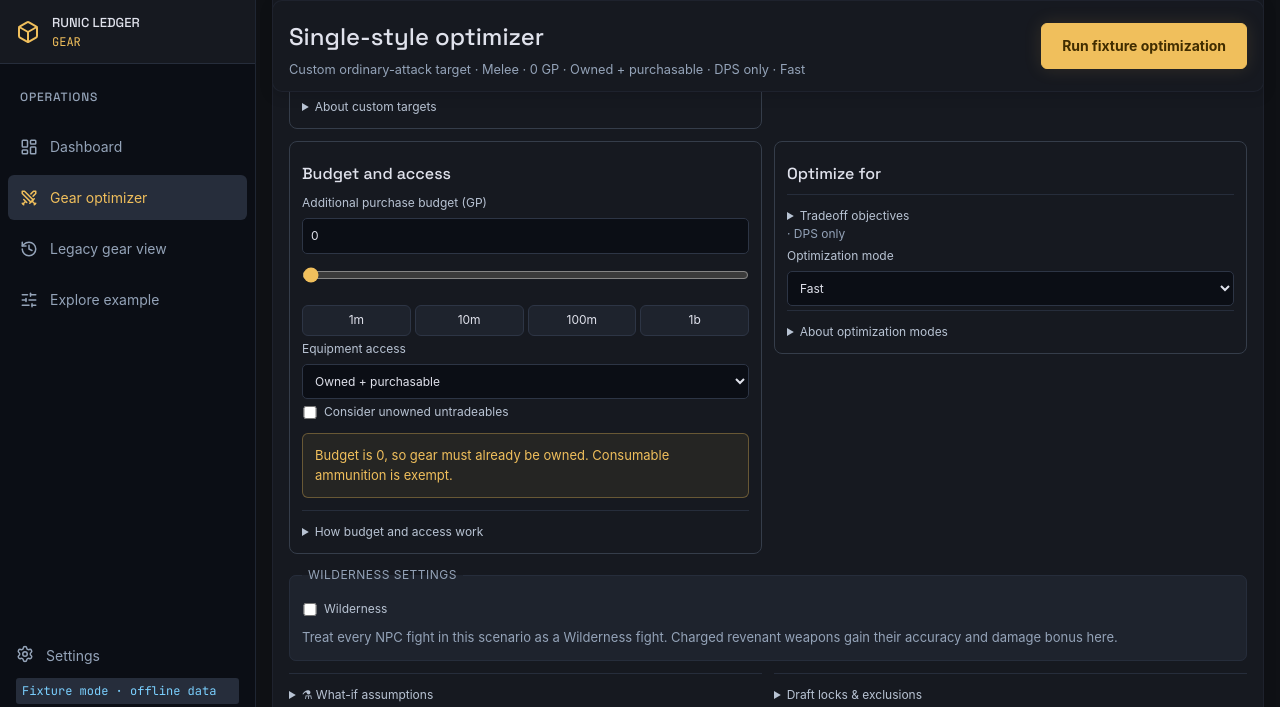
Test: preserves the toggle while owned-only access temporarily disables it
The image size is (1280, 707).
(page scrolled)
Click the checkbox labelled "Consider unowned untradeables" at (310, 412), box [302,406,318,419]
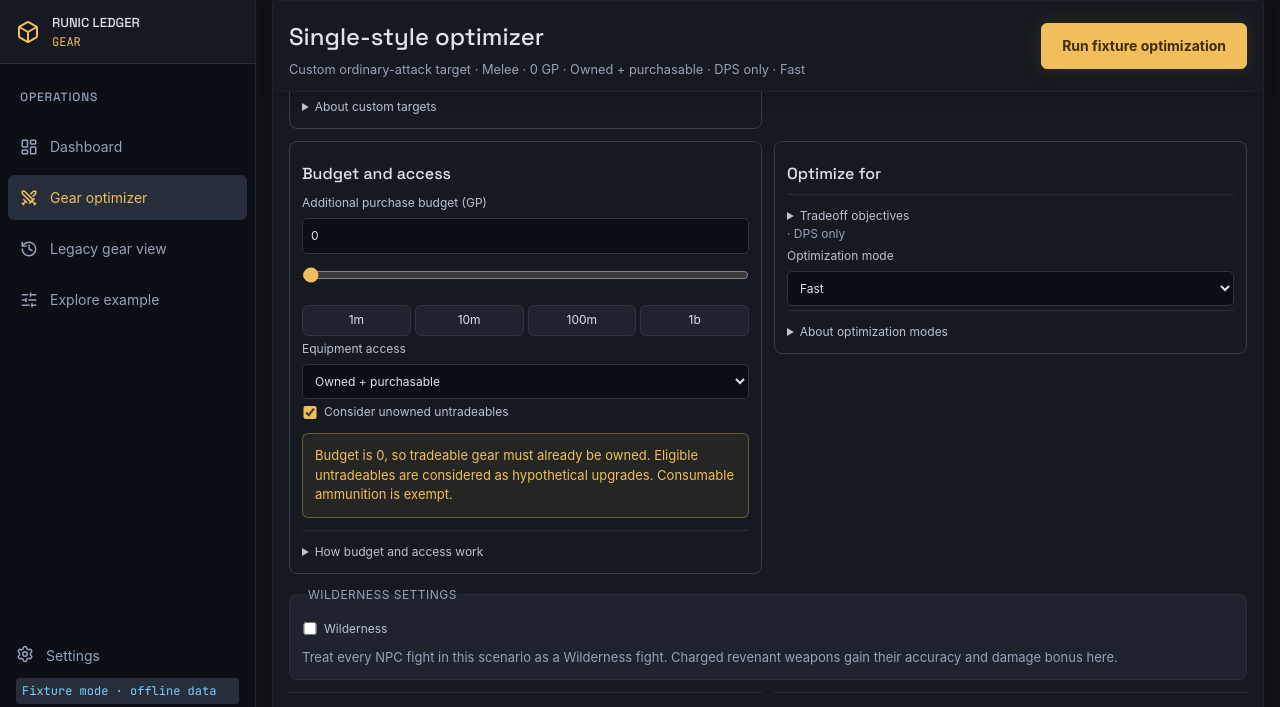
Select "Observed owned only" in the dropdown labelled "Equipment access" at (526, 382), box [302,364,749,399]
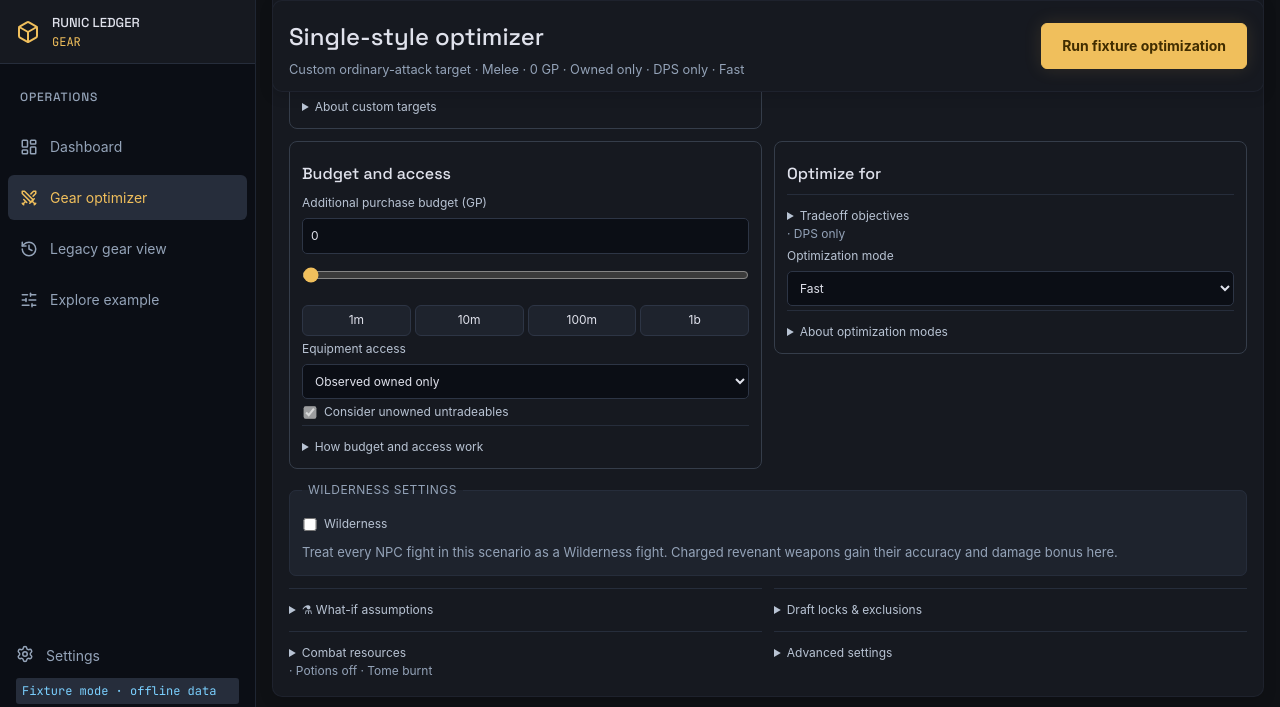
expect the checkbox labelled "Consider unowned untradeables" is checked: met, box [302,406,318,419]
expect the checkbox labelled "Consider unowned untradeables" is disabled: met, box [302,406,318,419]
Select "Owned + purchasable" in the dropdown labelled "Equipment access" at (526, 382), box [302,364,749,399]
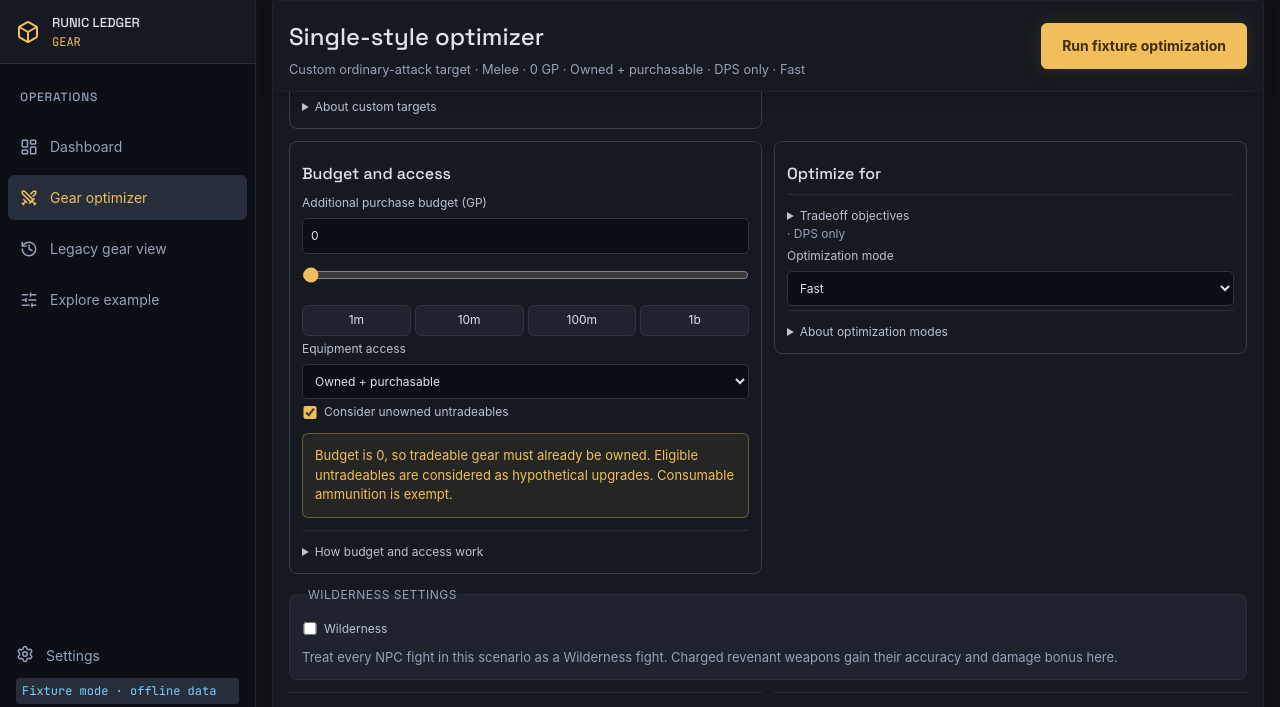
expect the checkbox labelled "Consider unowned untradeables" is checked: met, box [302,406,318,419]
expect the checkbox labelled "Consider unowned untradeables" is enabled: met, box [302,406,318,419]
